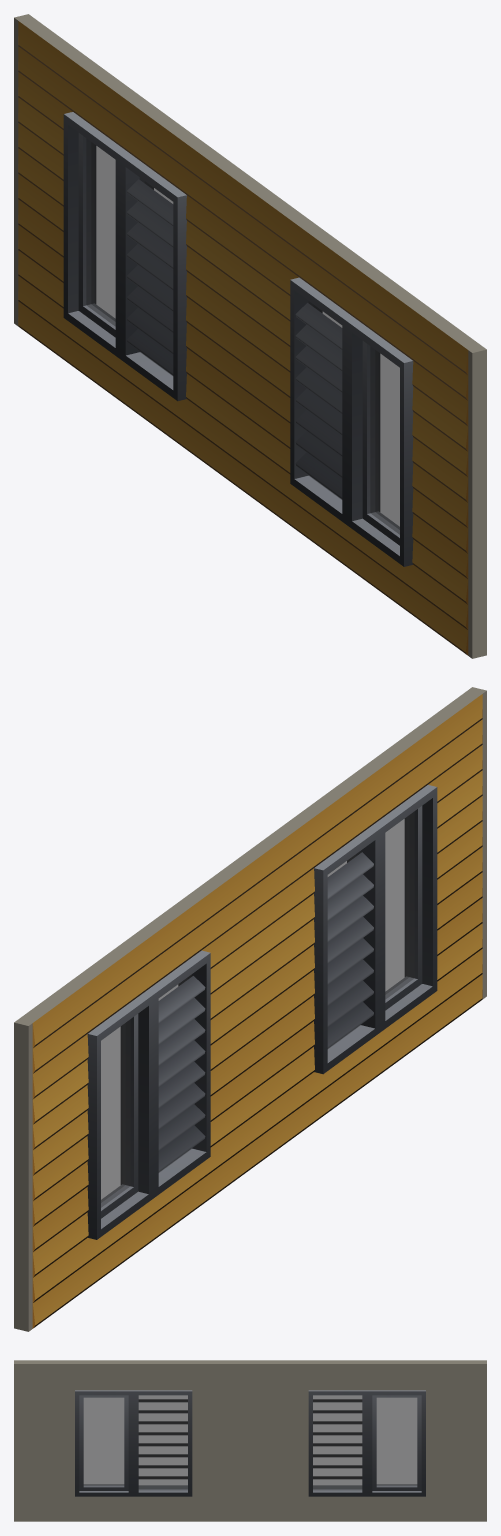
File: TSP_House_Wall_Regular_09B.fbx
3 views of the same model, one above another, from view 1: azimuth 30°, elevation 25°; view 2: azimuth 150°, elevation 25°; view 3: azimuth 270°, elevation 25° (orthographic). The views are drawn at different scales.
Visible parts, largest first — view 1: TSP_House_Wall_Regular_09B, TSP_House_Wall_Regular_09B_Blinds, TSP_House_Wall_Regular_09B_Window.R, TSP_House_Wall_Regular_09B_Window.L; view 2: TSP_House_Wall_Regular_09B, TSP_House_Wall_Regular_09B_Blinds, TSP_House_Wall_Regular_09B_Window.R, TSP_House_Wall_Regular_09B_Window.L; view 3: TSP_House_Wall_Regular_09B, TSP_House_Wall_Regular_09B_Window.R, TSP_House_Wall_Regular_09B_Window.L, TSP_House_Wall_Regular_09B_Blinds.
Boxes of the visible parts, bbox=[...] form: TSP_House_Wall_Regular_09B: bbox=[14, 14, 486, 658]; TSP_House_Wall_Regular_09B_Blinds: bbox=[127, 179, 342, 499]; TSP_House_Wall_Regular_09B_Window.R: bbox=[78, 133, 115, 337]; TSP_House_Wall_Regular_09B_Window.L: bbox=[362, 341, 399, 545]; TSP_House_Wall_Regular_09B: bbox=[14, 687, 486, 1331]; TSP_House_Wall_Regular_09B_Blinds: bbox=[158, 852, 373, 1172]; TSP_House_Wall_Regular_09B_Window.R: bbox=[101, 1014, 138, 1218]; TSP_House_Wall_Regular_09B_Window.L: bbox=[385, 806, 422, 1010]; TSP_House_Wall_Regular_09B: bbox=[14, 1360, 486, 1521]; TSP_House_Wall_Regular_09B_Window.R: bbox=[372, 1395, 421, 1490]; TSP_House_Wall_Regular_09B_Window.L: bbox=[79, 1395, 128, 1490]; TSP_House_Wall_Regular_09B_Blinds: bbox=[139, 1399, 361, 1478].
Bounding box in the file's own units: 0.29 × 3 × 8.15.
